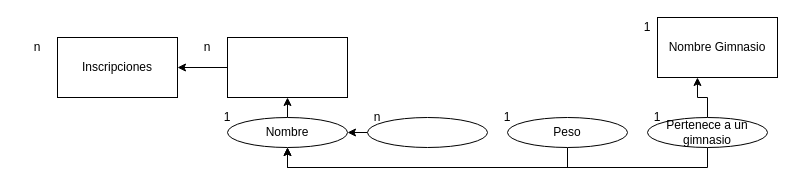
Some shapes in this 795 by 193 pixel diagram are drawn without their labels. Here are the shapes that lost their labels. From the top down, the box of each, then its label:
(226, 36, 348, 98): Boxeadores
(366, 116, 488, 148): Duelos ganados
